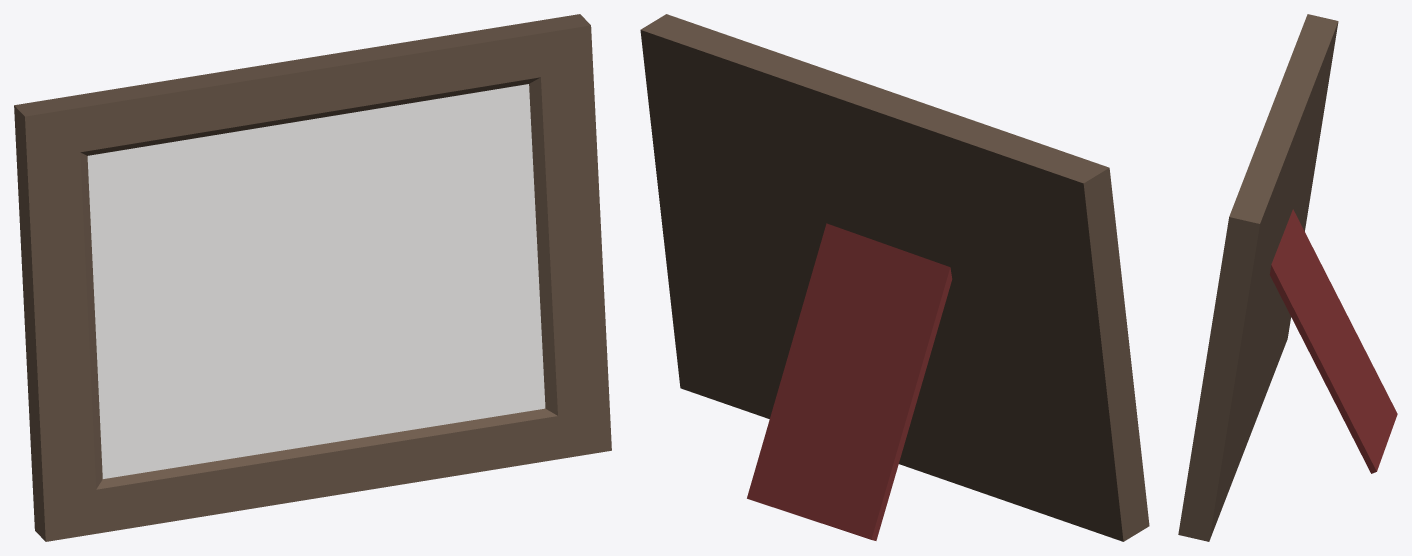
Rendered from Photoframe_7.fbx.
3 renders of one model, left to right at view 1: azimuth 30°, elevation 25°; view 2: azimuth 150°, elevation 25°; view 3: azimuth 270°, elevation 25°, orthographic. The views are drawn at different scales.
Visible parts, largest first — view 1: Photoframe_7; view 2: Photoframe_7; view 3: Photoframe_7.
Part boxes in pixels (left/top/right/bottom): Photoframe_7: left=14, top=14, right=611, bottom=541; Photoframe_7: left=640, top=14, right=1149, bottom=541; Photoframe_7: left=1178, top=14, right=1397, bottom=541.
Size of the model in its own units: 24.57 by 10.8 by 17.77.
